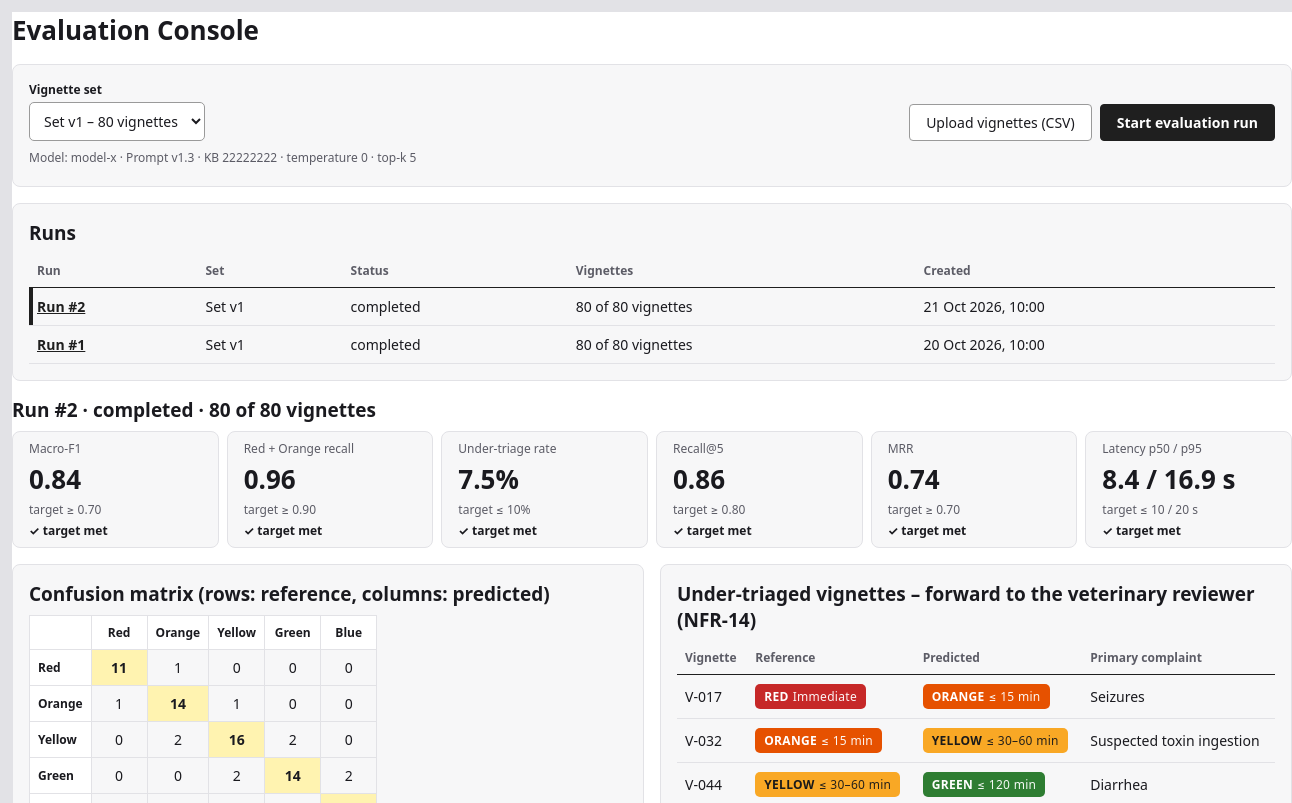
Test: the console with finished runs › switches to another run when its name is chosen
Expected: the heading "Run #2 · completed · 80 of 80 vignettes" is shown, left=12, top=397, right=376, bottom=423
Click the button with aria-label "Show run #1" at (61, 344), box left=37, top=335, right=85, bottom=354
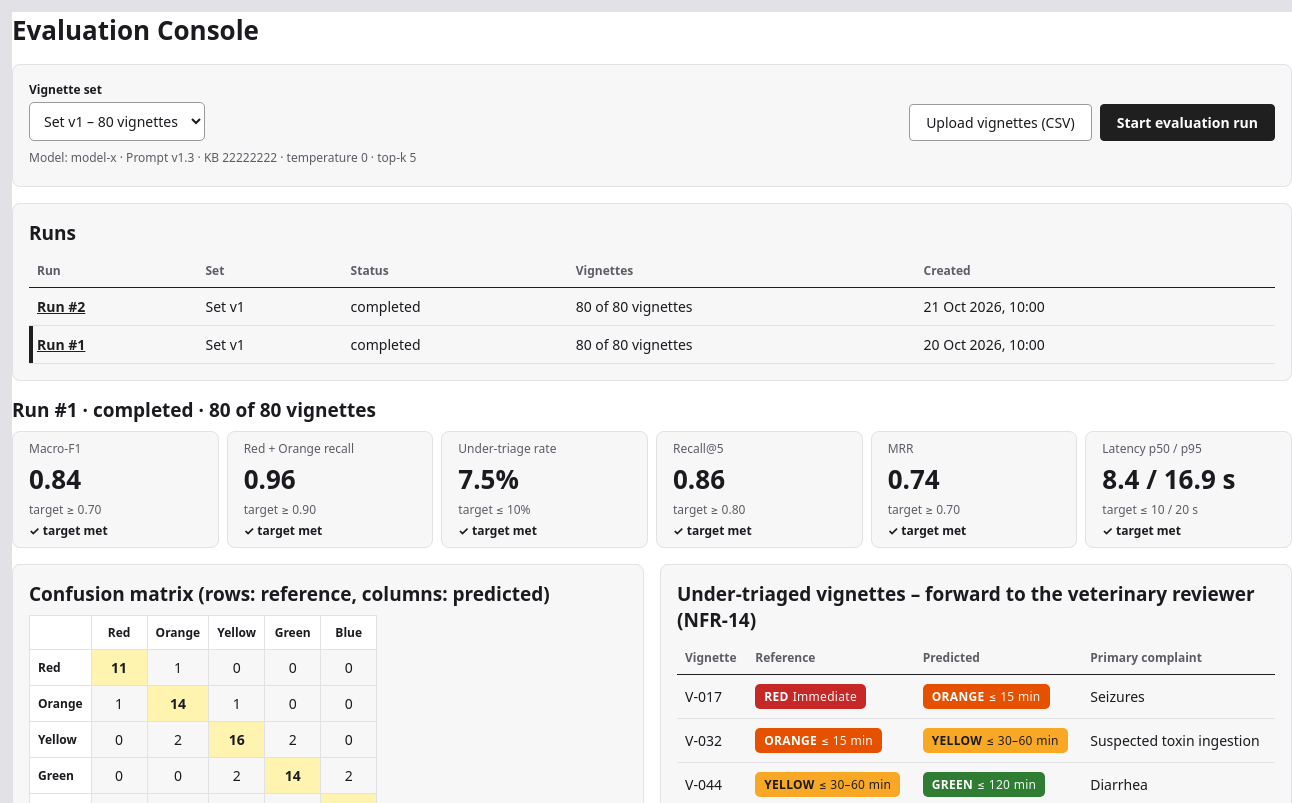
Expected: the heading "Run #1 · completed · 80 of 80 vignettes" is shown, left=12, top=397, right=376, bottom=423
